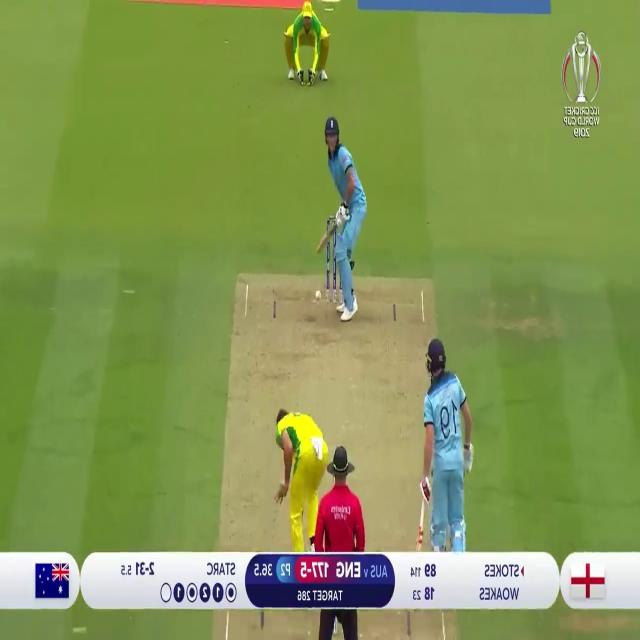ball: (313, 287, 321, 299)
